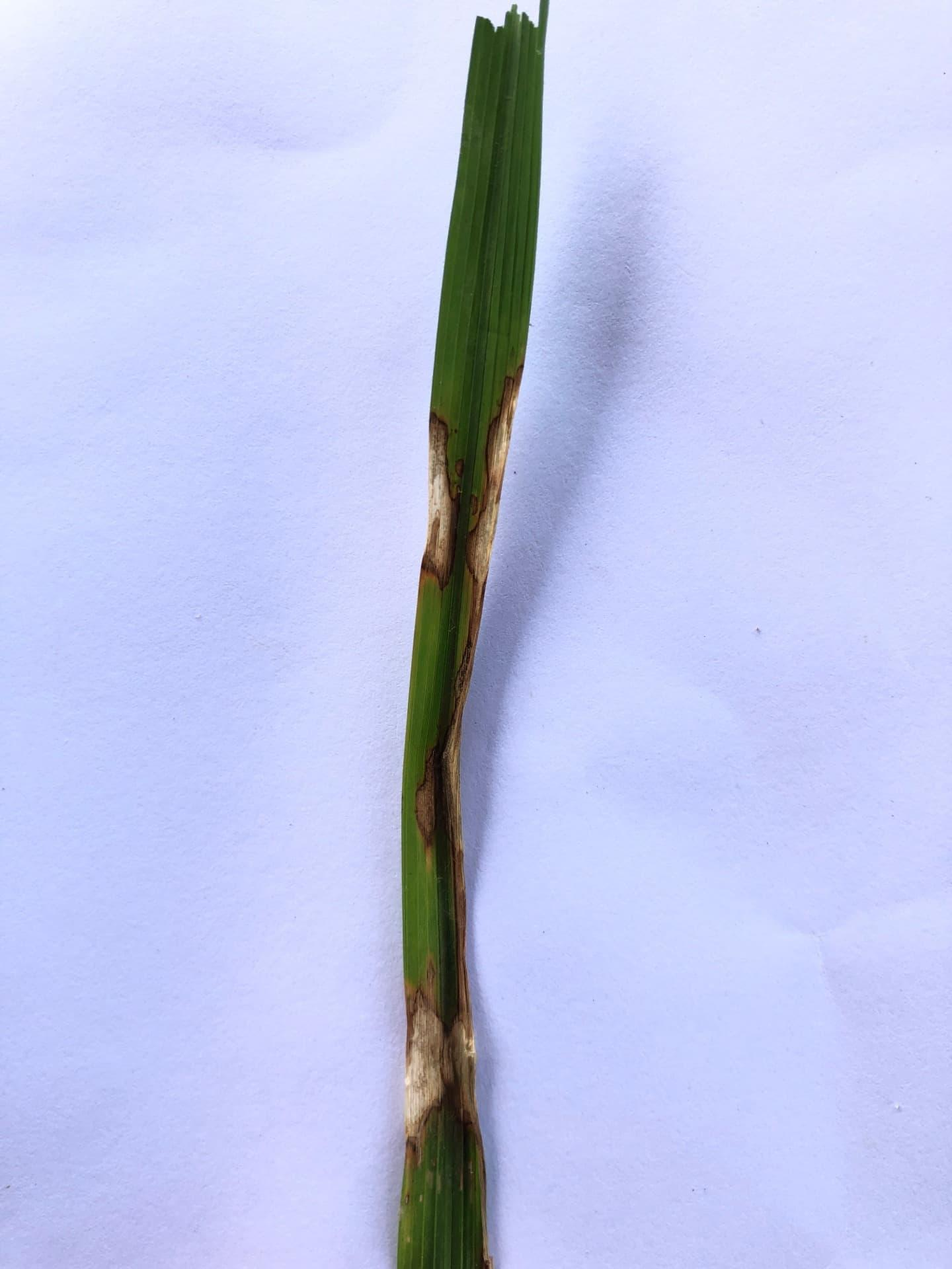Leaf Blight: (404, 365, 518, 1268), (418, 412, 455, 589)
